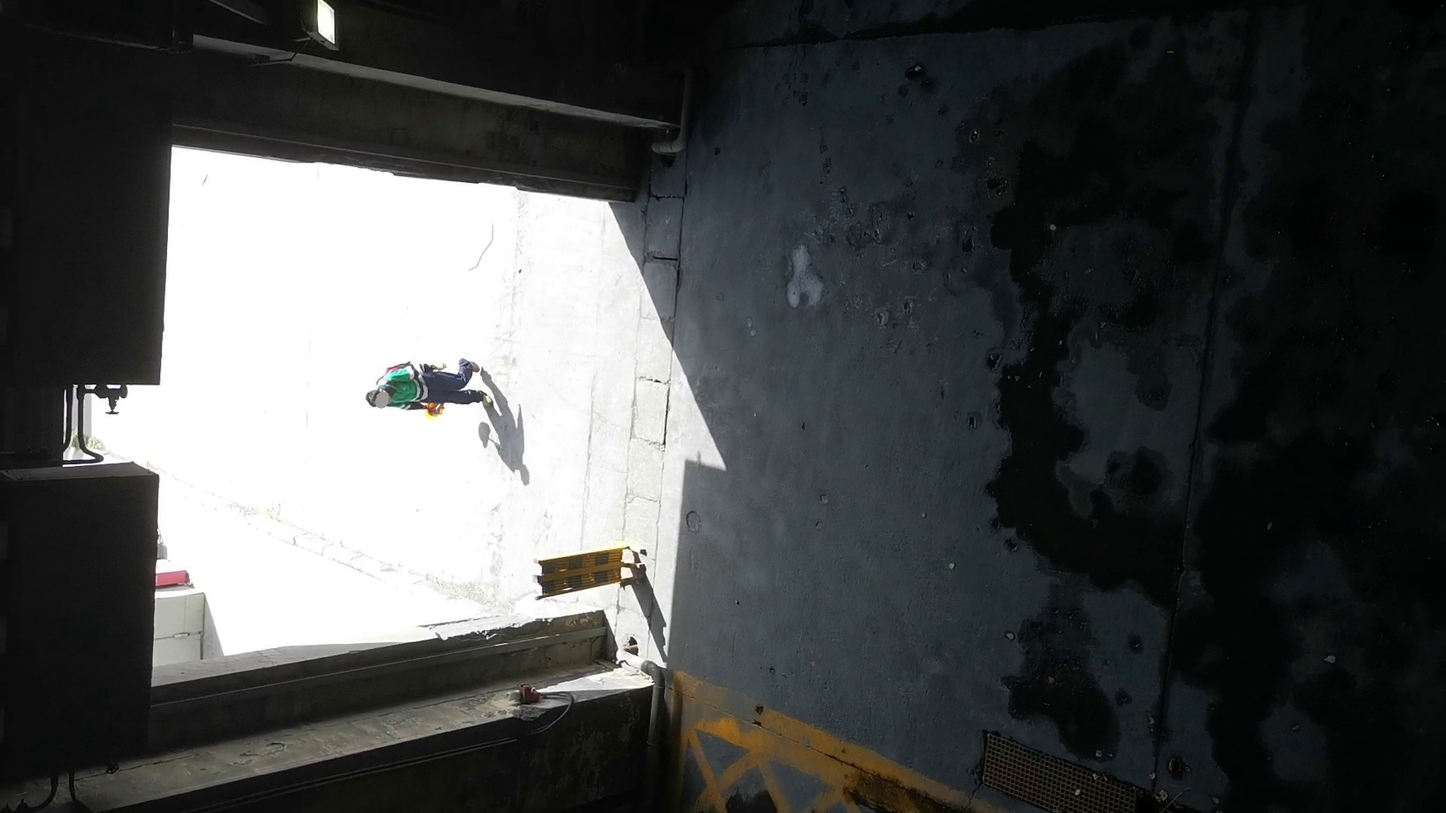head: (365, 389, 389, 407)
person: (363, 356, 493, 419)
